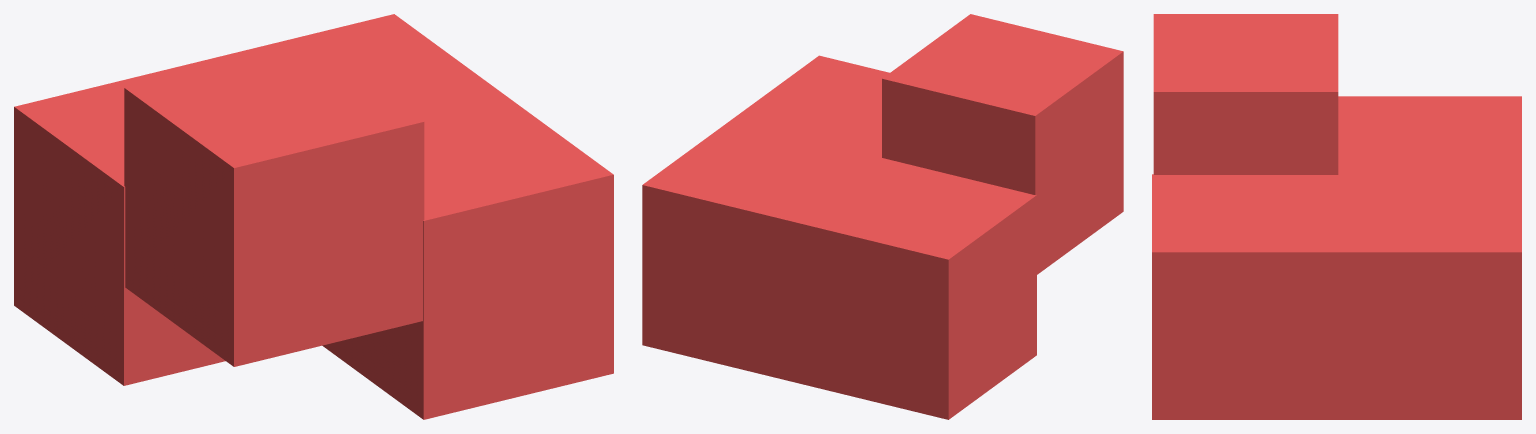
The model's file is 1x1SizeRef.fbx.
The picture shows the model from 3 angles, left to right: view 1: azimuth 30°, elevation 25°; view 2: azimuth 150°, elevation 25°; view 3: azimuth 270°, elevation 25°; orthographic projection. The views are drawn at different scales.
Parts seen in each view (by area): view 1: Cube, Cube__1_, Cube__3_, Cube__2_; view 2: Cube__3_, Cube, Cube__2_, Cube__1_; view 3: Cube__2_, Cube__1_, Cube, Cube__3_.
Part boxes in pixels (bbox=[...]): Cube: bbox=[124, 41, 424, 366]; Cube__1_: bbox=[322, 94, 613, 419]; Cube__3_: bbox=[14, 60, 225, 385]; Cube__2_: bbox=[204, 14, 503, 115]; Cube__3_: bbox=[795, 158, 1036, 419]; Cube: bbox=[882, 14, 1123, 274]; Cube__2_: bbox=[642, 120, 882, 382]; Cube__1_: bbox=[731, 55, 889, 156]; Cube__2_: bbox=[1337, 174, 1521, 419]; Cube__1_: bbox=[1152, 174, 1336, 419]; Cube: bbox=[1153, 14, 1338, 174]; Cube__3_: bbox=[1338, 96, 1521, 174].
Size of the model in its own units: 200 by 149 by 200.
